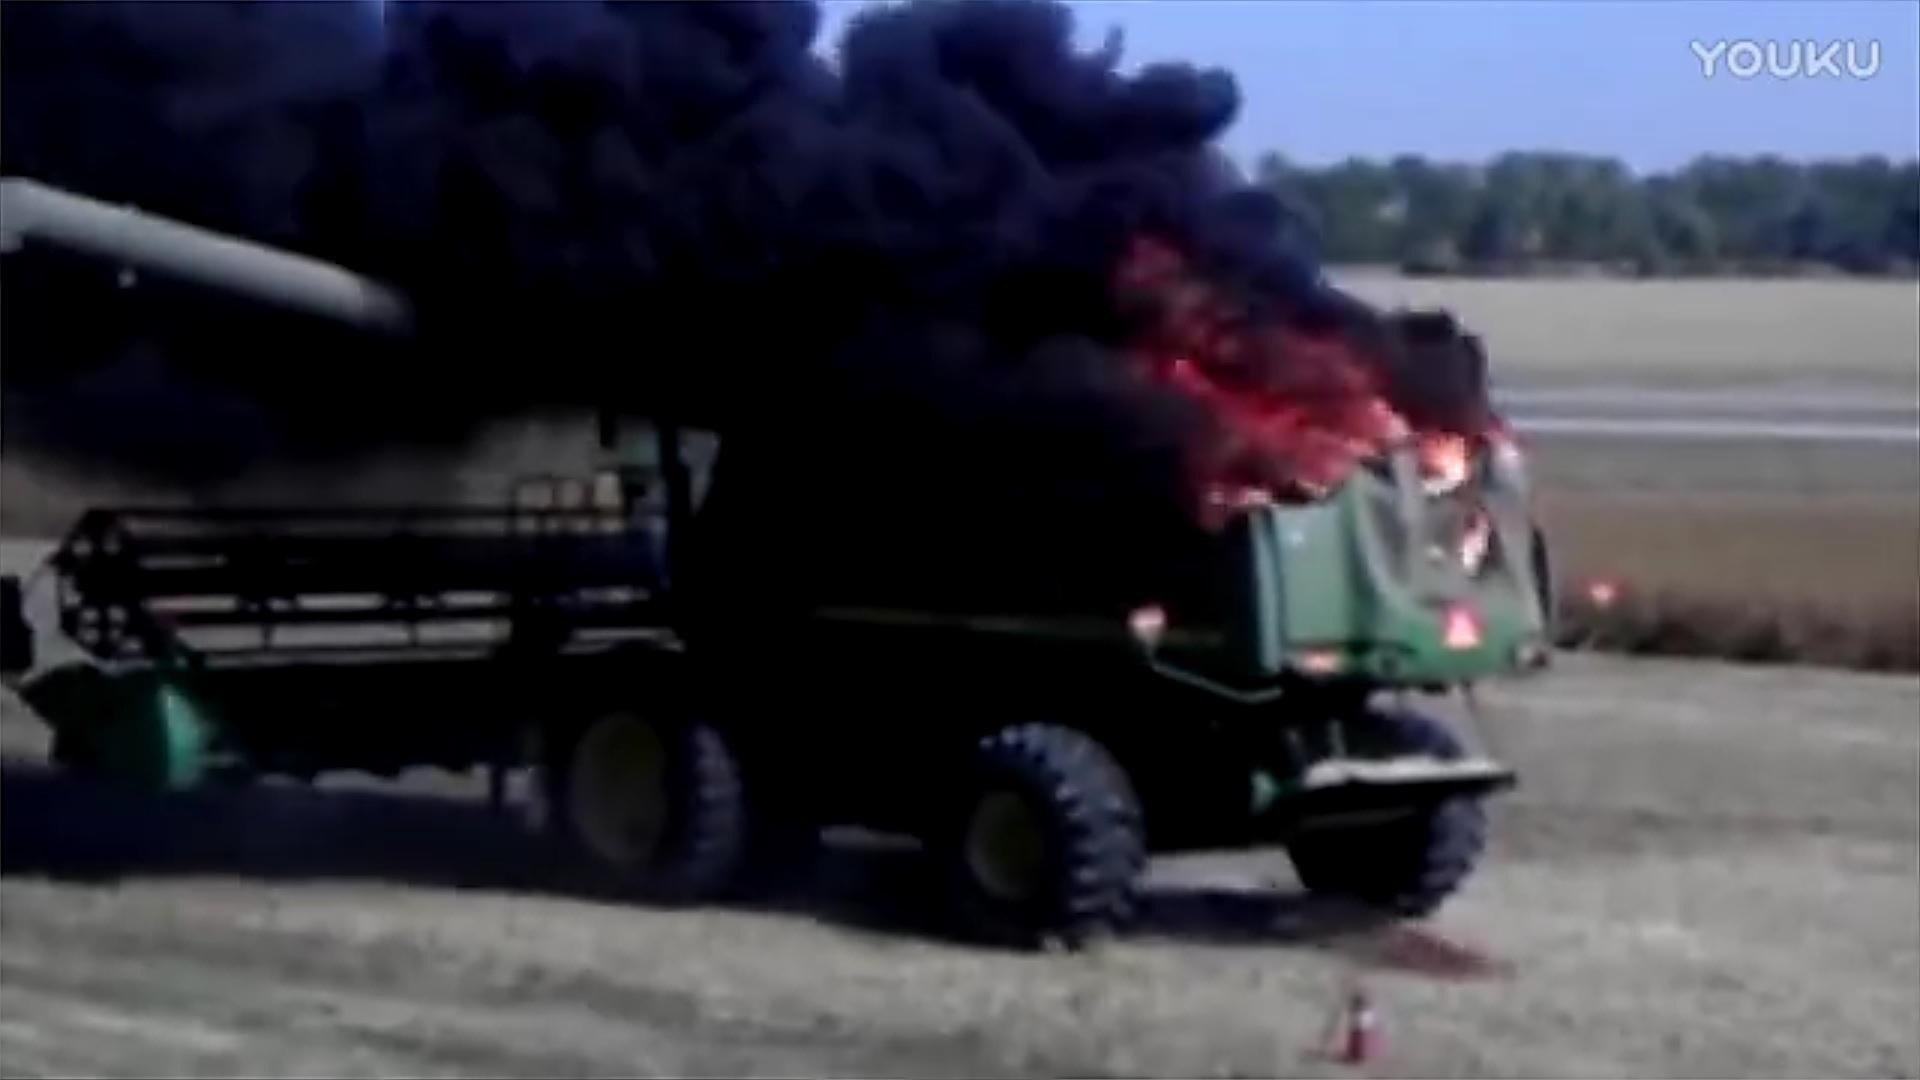fire: (1156, 336, 1489, 502)
